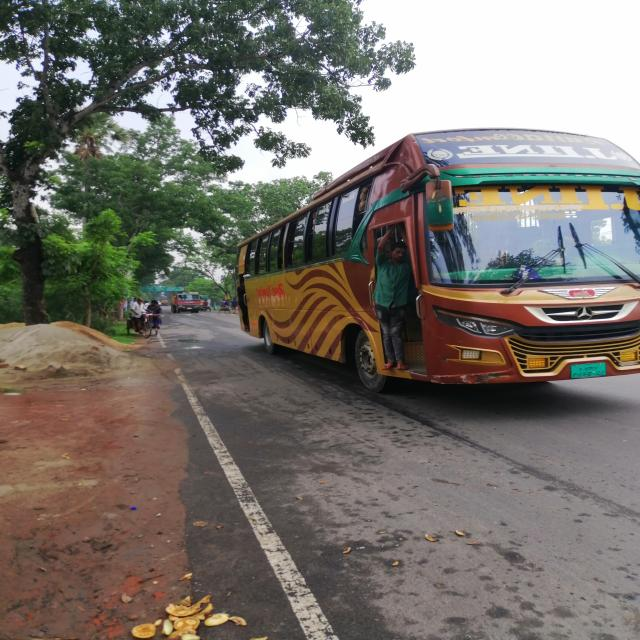Bus: (216, 130, 640, 400)
